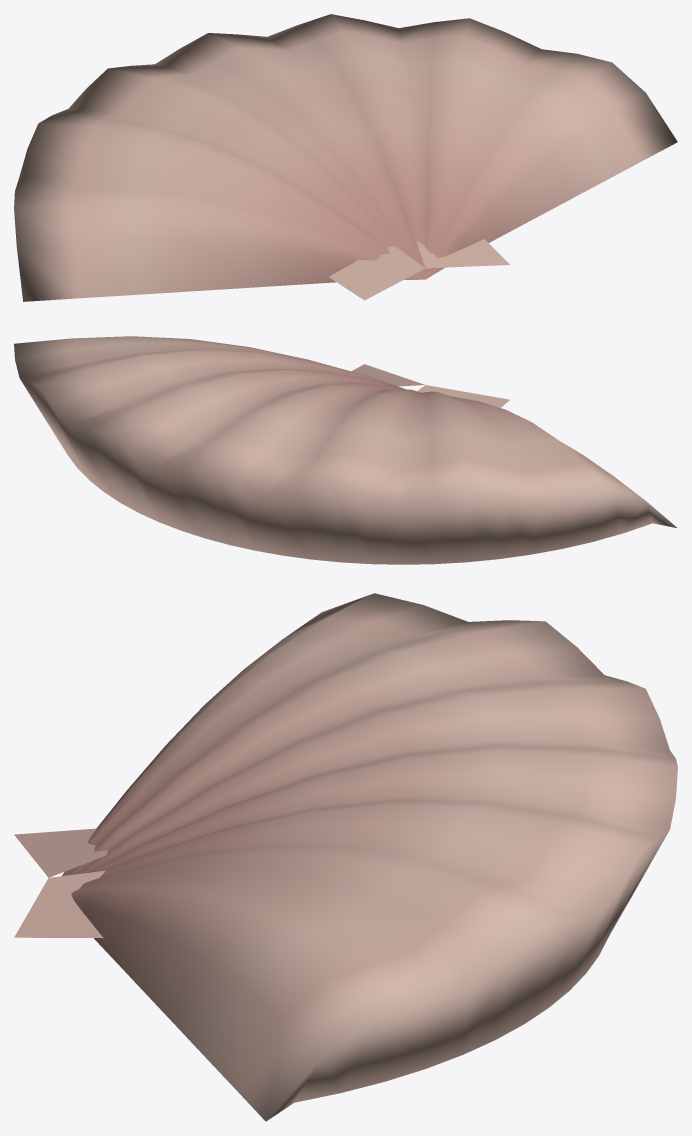
The model's file is node-shell-v3.glb.
The picture shows the model from 3 angles, top to bottom: view 1: azimuth 30°, elevation 25°; view 2: azimuth 150°, elevation 25°; view 3: azimuth 270°, elevation 25°; orthographic projection. The views are drawn at different scales.
Parts seen in each view (by area): view 1: 0_shell; view 2: 0_shell; view 3: 0_shell.
Part boxes in pixels (box(x1,y1,x2,y2)): 0_shell: box(14, 14, 677, 301); 0_shell: box(14, 336, 677, 564); 0_shell: box(14, 593, 677, 1121).
Bounding box in the file's own units: 0.4935 × 0.0748 × 0.2992.
